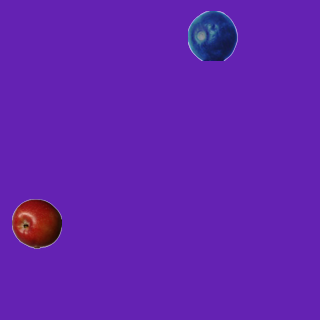Apple Braeburn: (11, 198, 61, 248)
Huckleberry: (187, 10, 237, 60)
